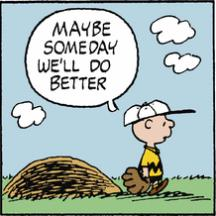charlie: (123, 100, 175, 196)
